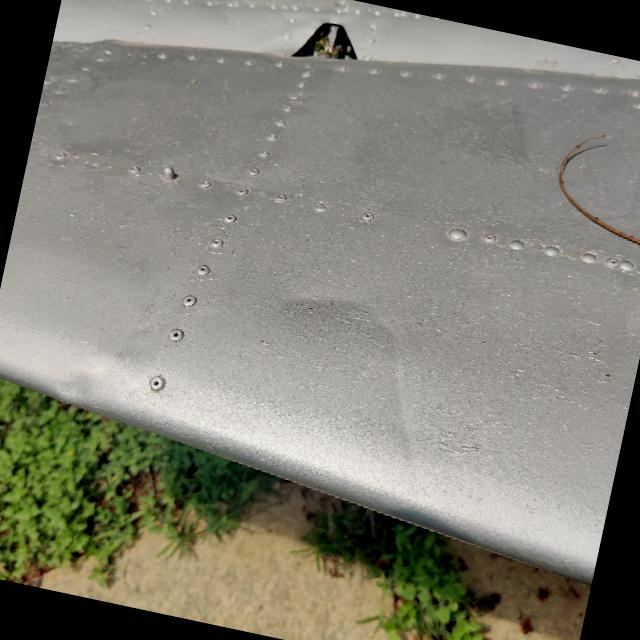dent: (300, 298, 481, 496), (246, 230, 396, 370), (25, 337, 121, 433)
